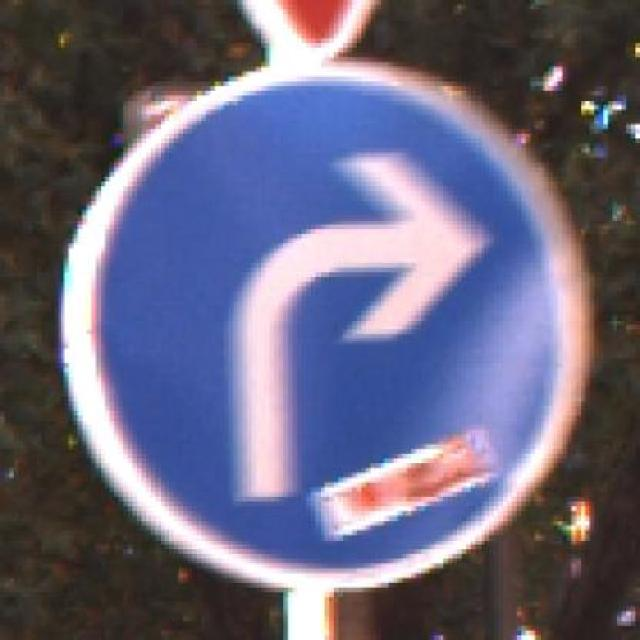Turn right ahead: (36, 58, 604, 607)
